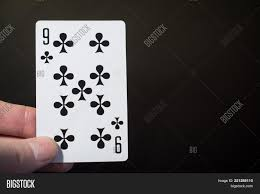nine of clubs: (35, 21, 129, 162)
